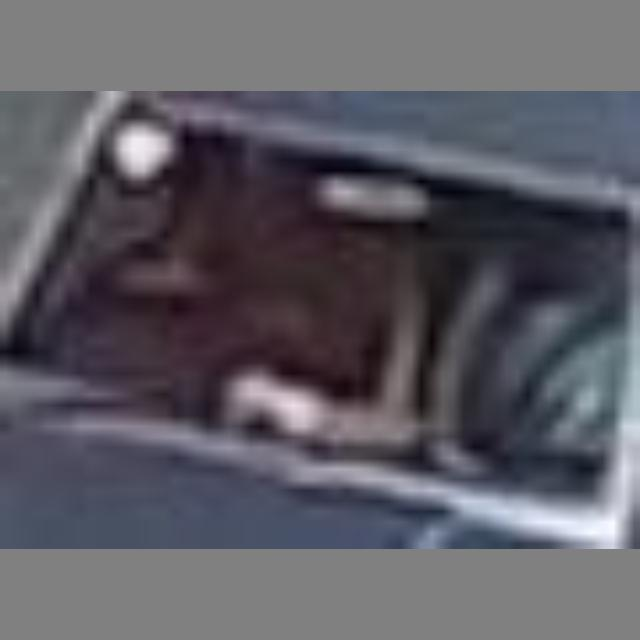tidak-pakai: (128, 144, 416, 422)
